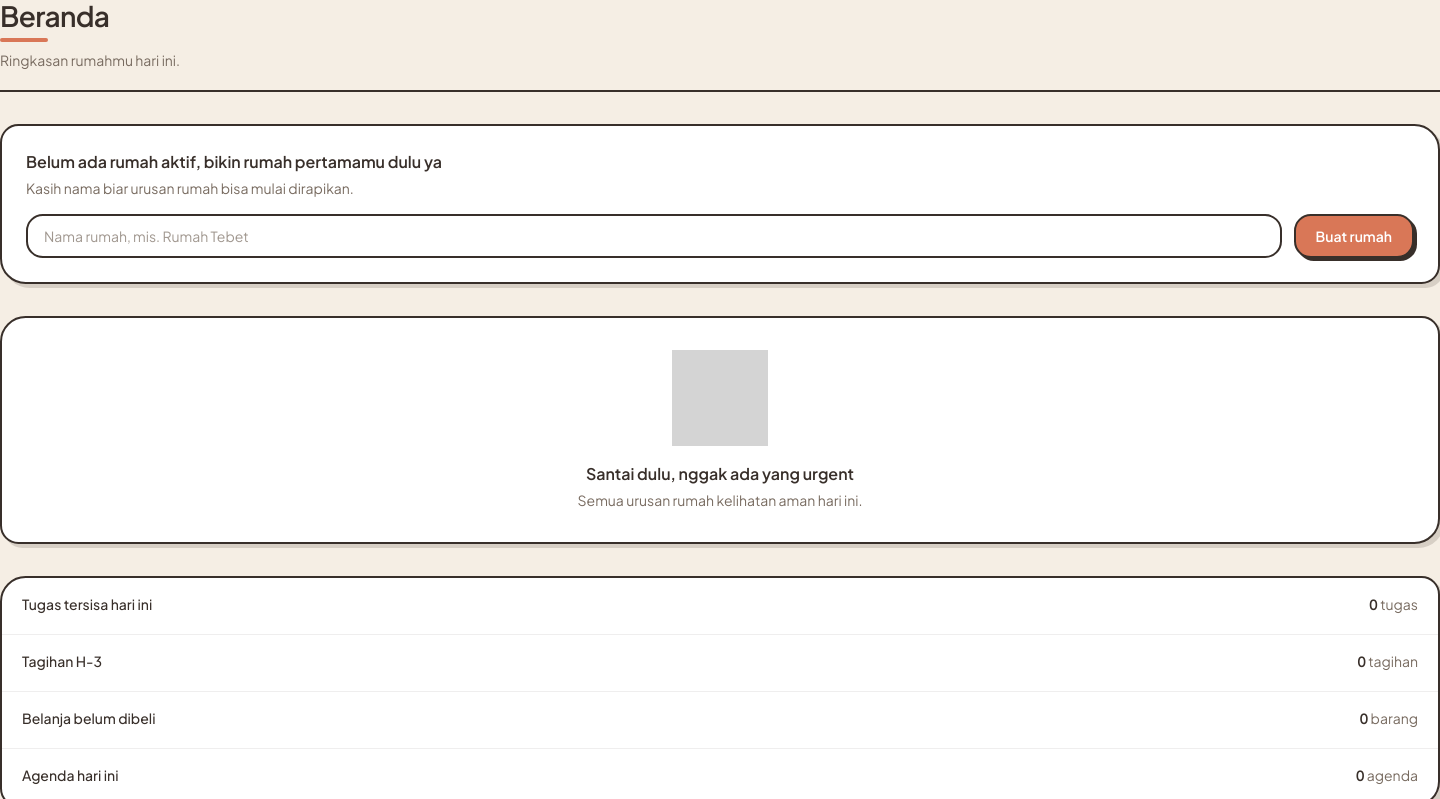
it: tanpa rumah aktif: nama kosong tidak manggil API
This screenshot has width=1440, height=799.
Expected: the heading "Belum ada rumah aktif, bikin rumah pertamamu dulu ya" is shown, top-left (26, 151), bottom-right (442, 172)
Click the button "Buat rumah" at (1354, 236), box top-left (1294, 214), bottom-right (1414, 258)
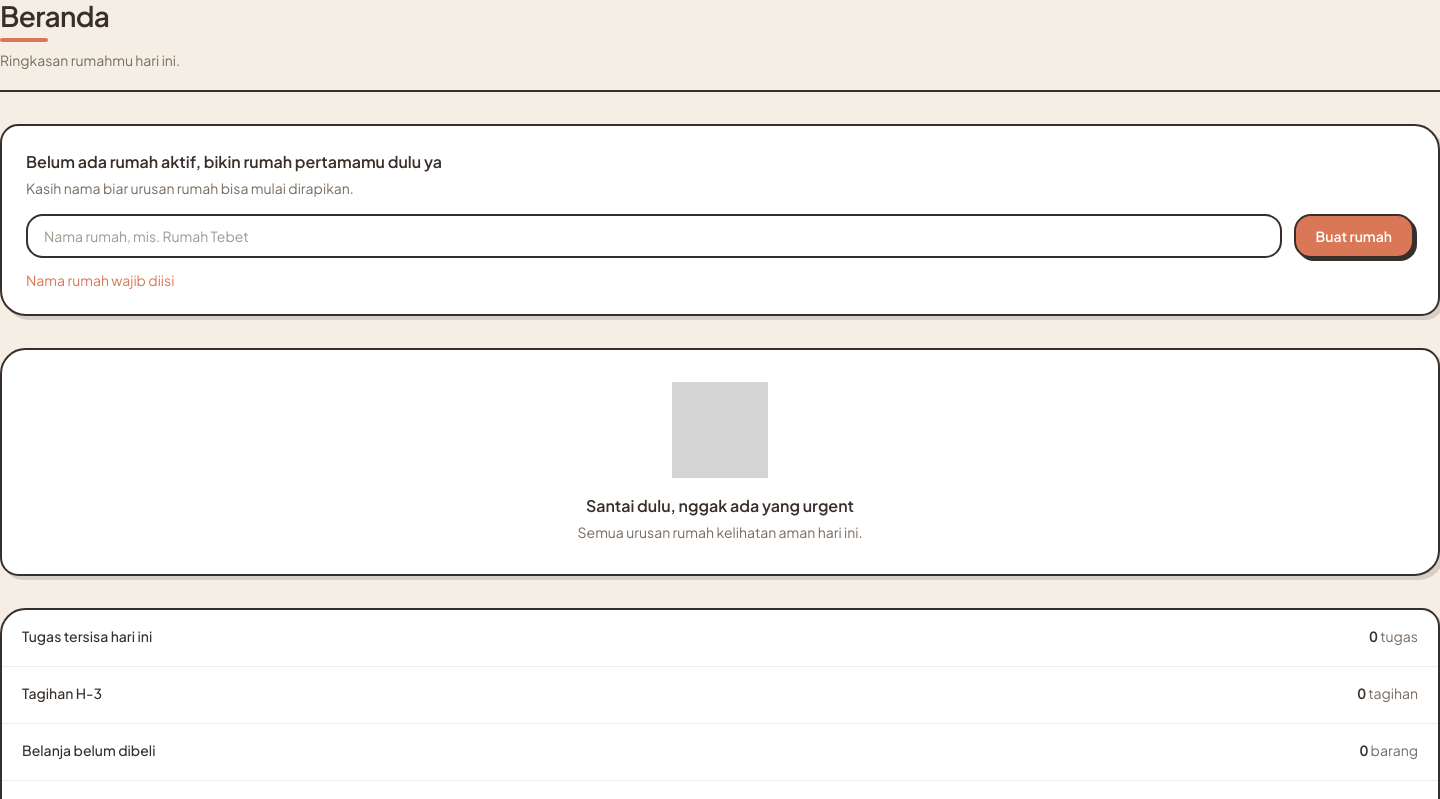
Now the text "Nama rumah wajib diisi" is shown, box top-left (26, 271), bottom-right (174, 289)
